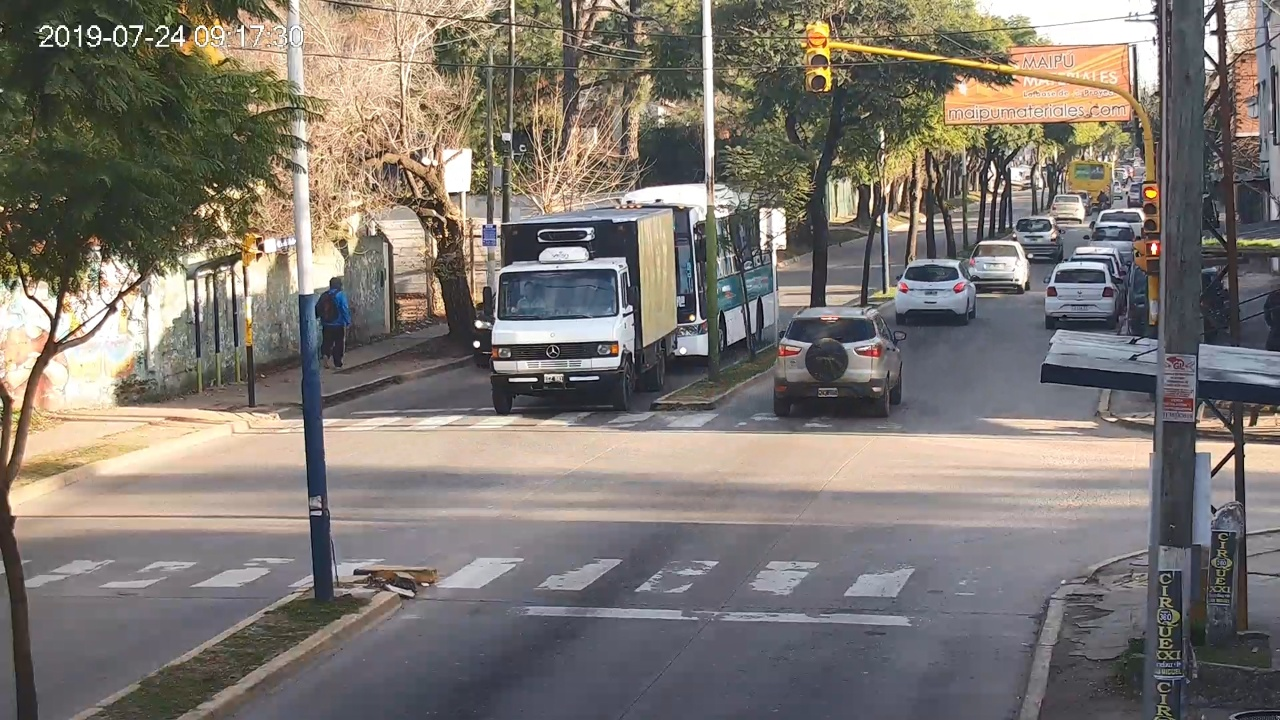car: (775, 306, 906, 416), (895, 258, 979, 323), (1043, 262, 1123, 329)
front truck: (482, 207, 677, 413)
traffic light: (806, 22, 831, 92), (1144, 183, 1159, 232)
